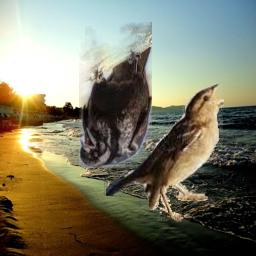Crow: (79, 22, 152, 168)
Sparrow: (104, 82, 224, 223)
